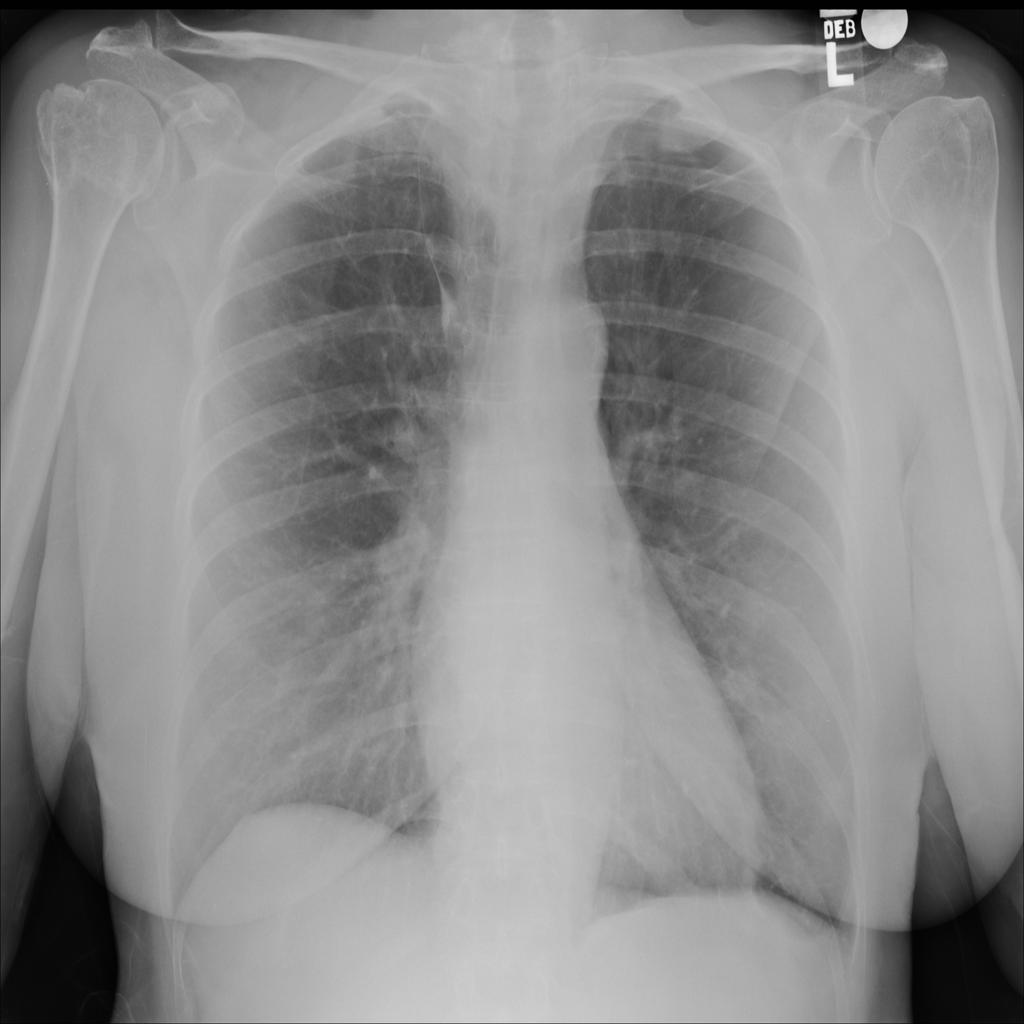nodule: (724, 690, 847, 859), (648, 81, 734, 162), (714, 639, 775, 716)
